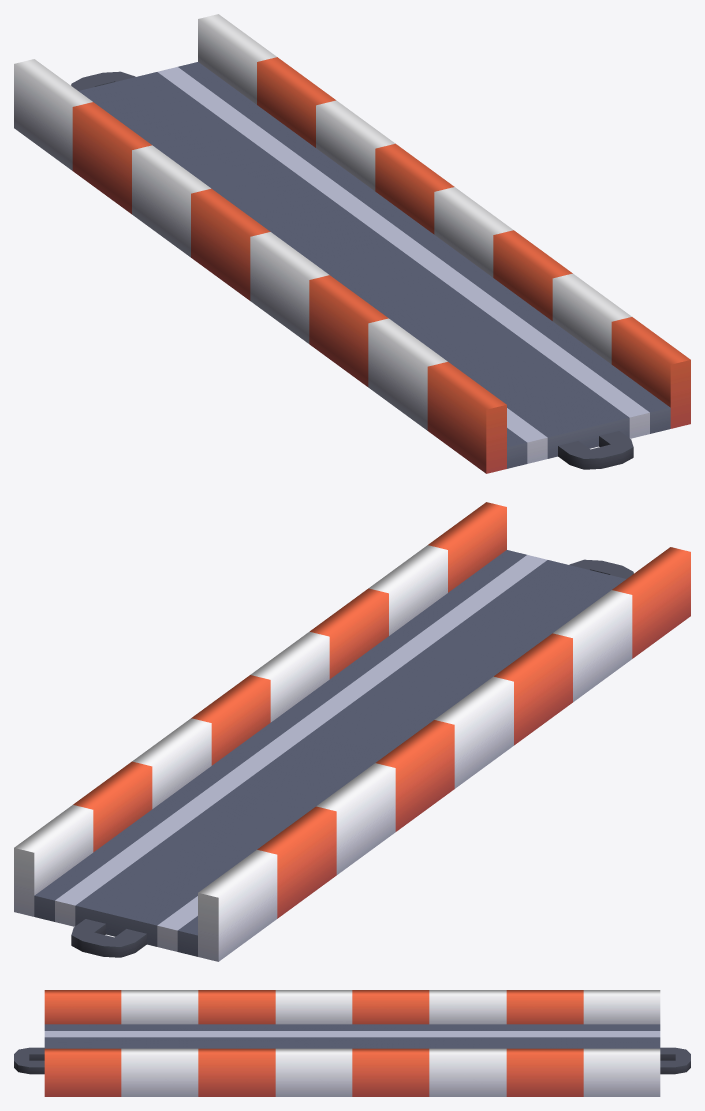
Rendered from track-road-narrow-straight.glb.
The picture shows the model from 3 angles, top to bottom: view 1: azimuth 30°, elevation 25°; view 2: azimuth 150°, elevation 25°; view 3: azimuth 270°, elevation 25°; orthographic projection. The views are drawn at different scales.
Parts seen in each view (by area): view 1: track-road-narrow-straight; view 2: track-road-narrow-straight; view 3: track-road-narrow-straight.
Part boxes in pixels (box(x1,y1,x2,y2)): track-road-narrow-straight: box(14, 14, 690, 473); track-road-narrow-straight: box(14, 502, 690, 961); track-road-narrow-straight: box(14, 990, 690, 1096).
Size of the model in its own units: 0.9999 by 0.3 by 4.4.
Materials: 1 (1 with a texture image).
